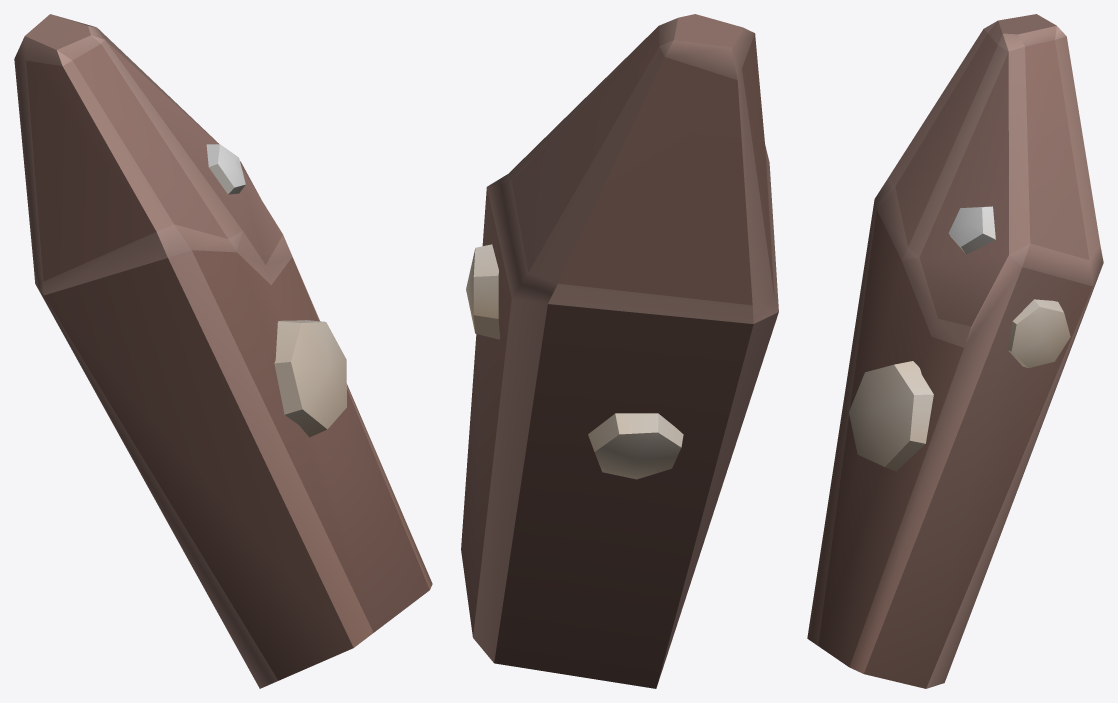
File: ChocolateChunkC.glb
3 views of the same model, side by side, from view 1: azimuth 30°, elevation 25°; view 2: azimuth 150°, elevation 25°; view 3: azimuth 270°, elevation 25° (orthographic). The views are drawn at different scales.
Visible parts, largest first — view 1: ChocolateChunkC; view 2: ChocolateChunkC; view 3: ChocolateChunkC.
Part boxes in pixels (x1=…): ChocolateChunkC: x1=14, y1=14, x2=432, y2=688; ChocolateChunkC: x1=461, y1=14, x2=778, y2=688; ChocolateChunkC: x1=807, y1=14, x2=1103, y2=688.
Bounding box in the file's own units: 0.6516 × 1.21 × 0.5545.
